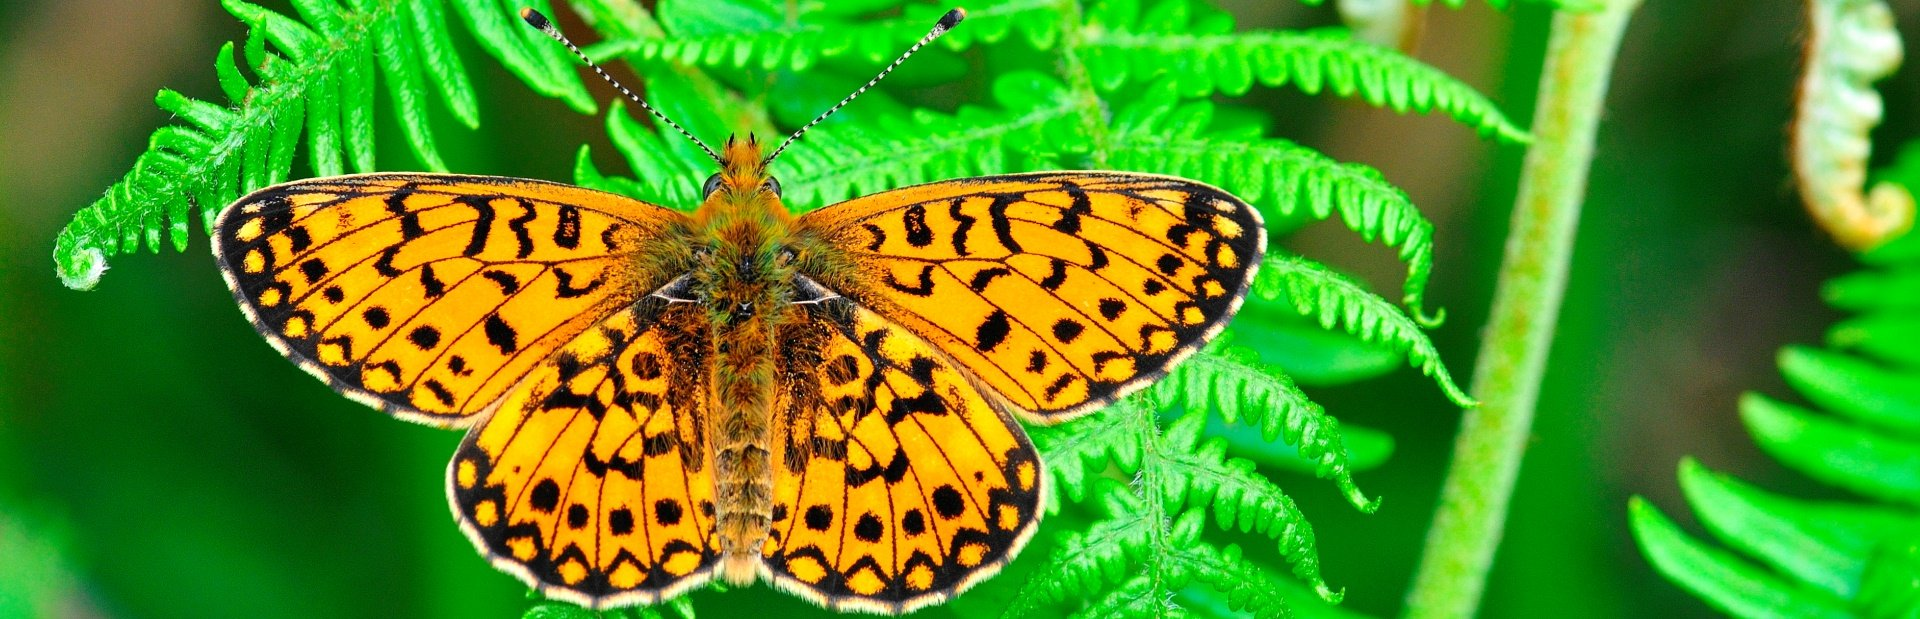Butterfly: (231, 13, 1270, 595)
